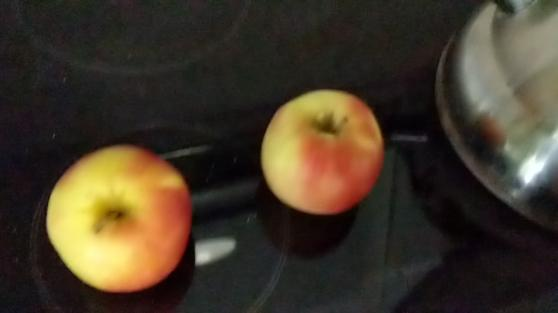apple: (47, 138, 193, 294), (257, 88, 382, 217)
